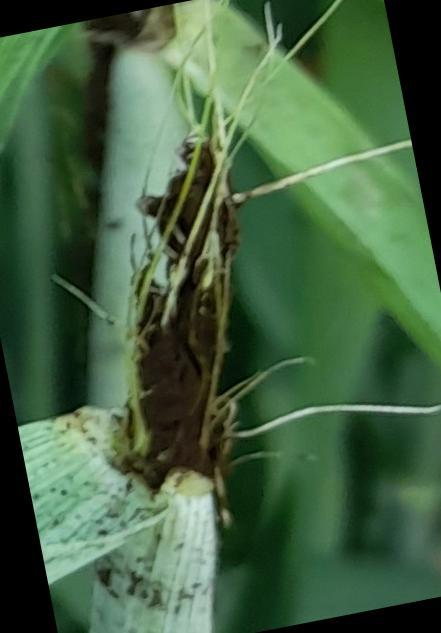Rice: (125, 417, 213, 471), (131, 357, 213, 408), (148, 307, 227, 350), (145, 197, 193, 227), (181, 267, 222, 298), (175, 161, 210, 190), (221, 203, 234, 252), (195, 140, 217, 154), (148, 474, 162, 488)
